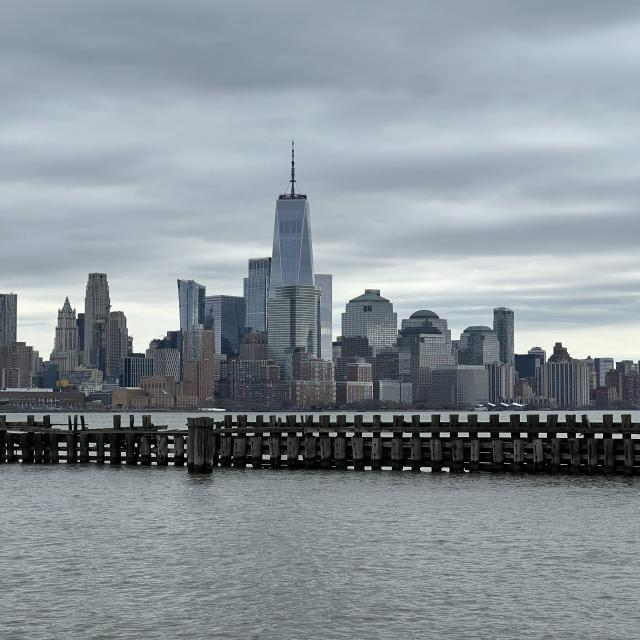WTC: (268, 139, 316, 289)
